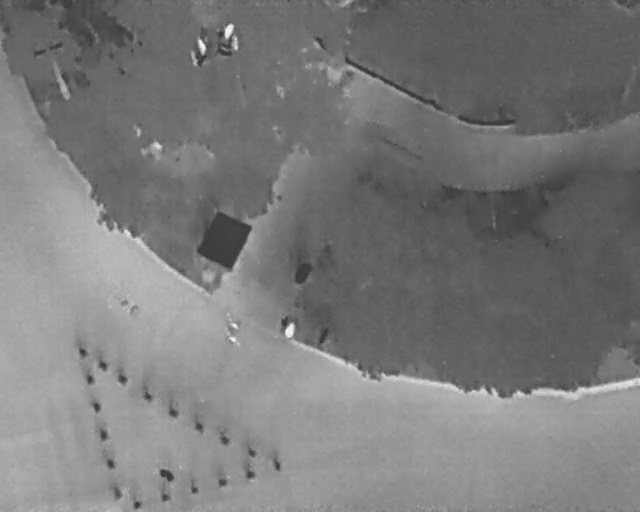Bicycle: (115, 293, 143, 318)
Person: (220, 310, 244, 335), (224, 330, 244, 350)
